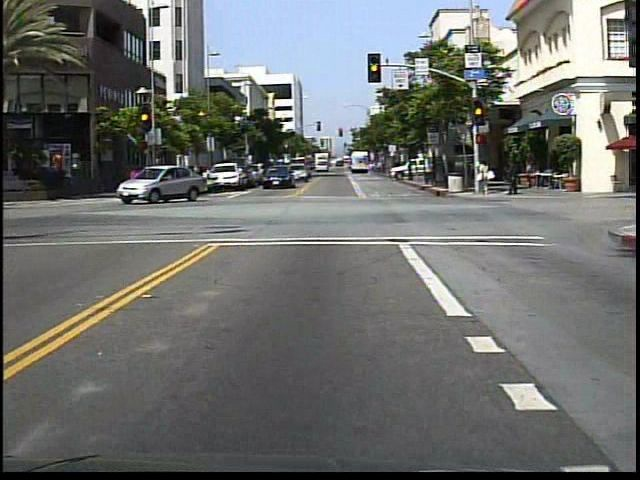person: (474, 158, 495, 199), (504, 155, 521, 197), (130, 165, 148, 197)
